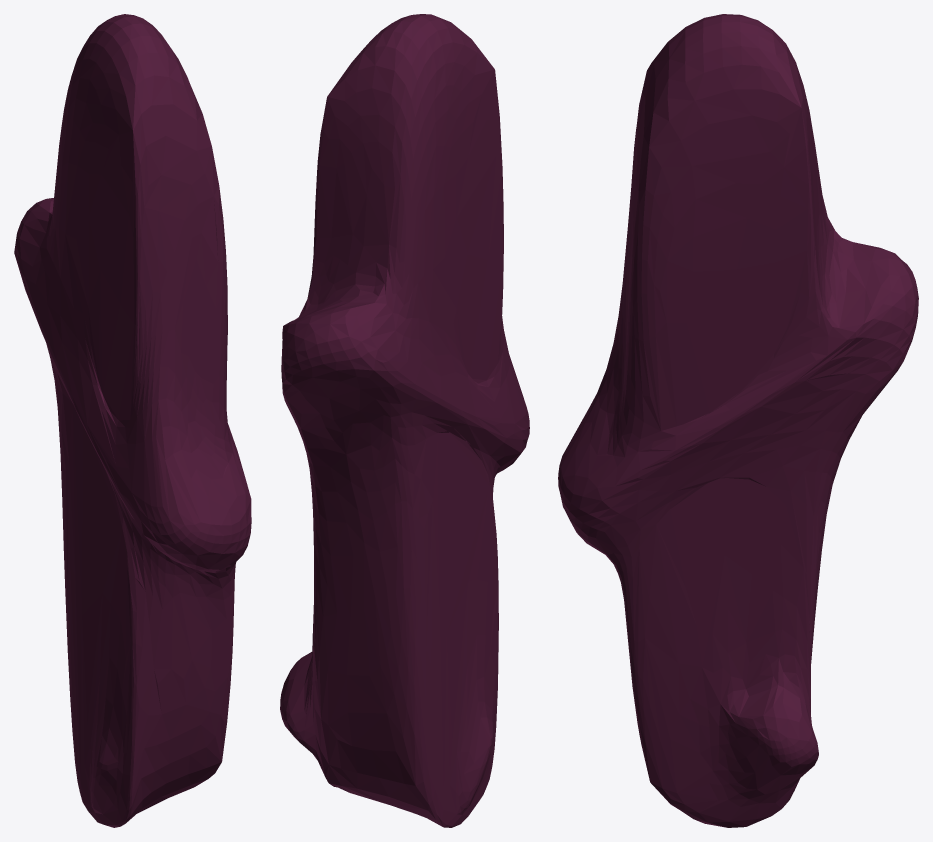
3 views of the same model, side by side, from view 1: azimuth 30°, elevation 25°; view 2: azimuth 150°, elevation 25°; view 3: azimuth 270°, elevation 25° (orthographic).
Visible parts, largest first — view 1: 979_Cube.3952; view 2: 979_Cube.3952; view 3: 979_Cube.3952.
Part boxes in pixels (x1,y1,x2,y2): 979_Cube.3952: [14, 14, 251, 827]; 979_Cube.3952: [280, 14, 529, 827]; 979_Cube.3952: [558, 14, 918, 827].
Bounding box in the file's own units: 2.44 × 11.72 × 4.78.
